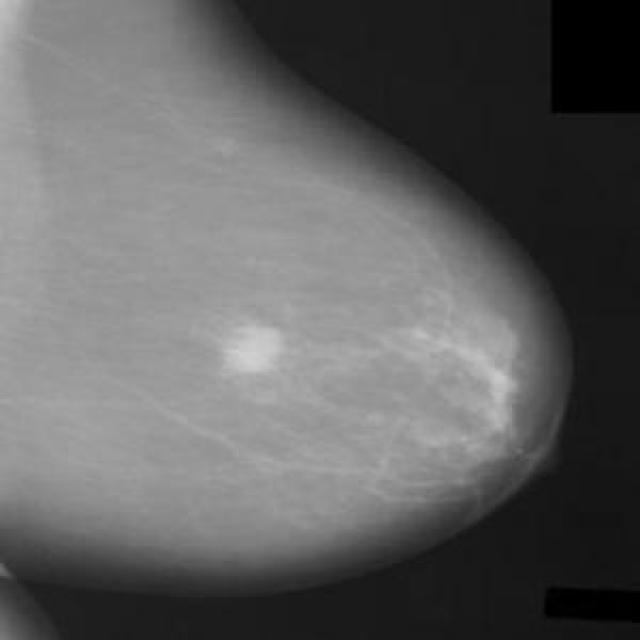tumor: (409, 310, 532, 477), (216, 314, 294, 386)
